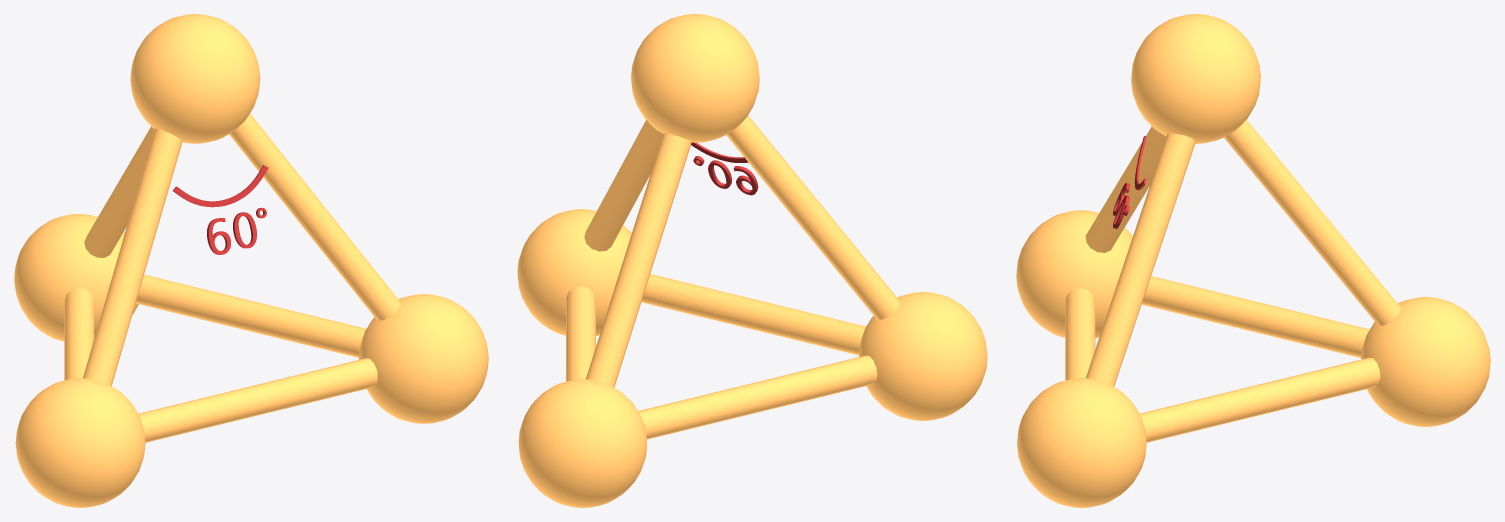
The model's file is yzjt2_D.gltf.
3 views of the same model, side by side, from view 1: azimuth 30°, elevation 25°; view 2: azimuth 150°, elevation 25°; view 3: azimuth 270°, elevation 25° (orthographic).
Parts seen in each view (by area): view 1: qiu, gun, angel; view 2: qiu, gun, angel; view 3: qiu, gun, angel.
Part boxes in pixels (x1,y1,x2,y2): qiu: (14, 14, 488, 507); gun: (64, 113, 401, 442); angel: (173, 165, 268, 254); qiu: (517, 14, 987, 507); gun: (566, 115, 900, 439); angel: (691, 142, 758, 195); qiu: (1016, 14, 1490, 507); gun: (1065, 119, 1400, 442); angel: (1113, 136, 1146, 229).
Bounding box in the file's own units: 45.53 × 38.29 × 40.99.
